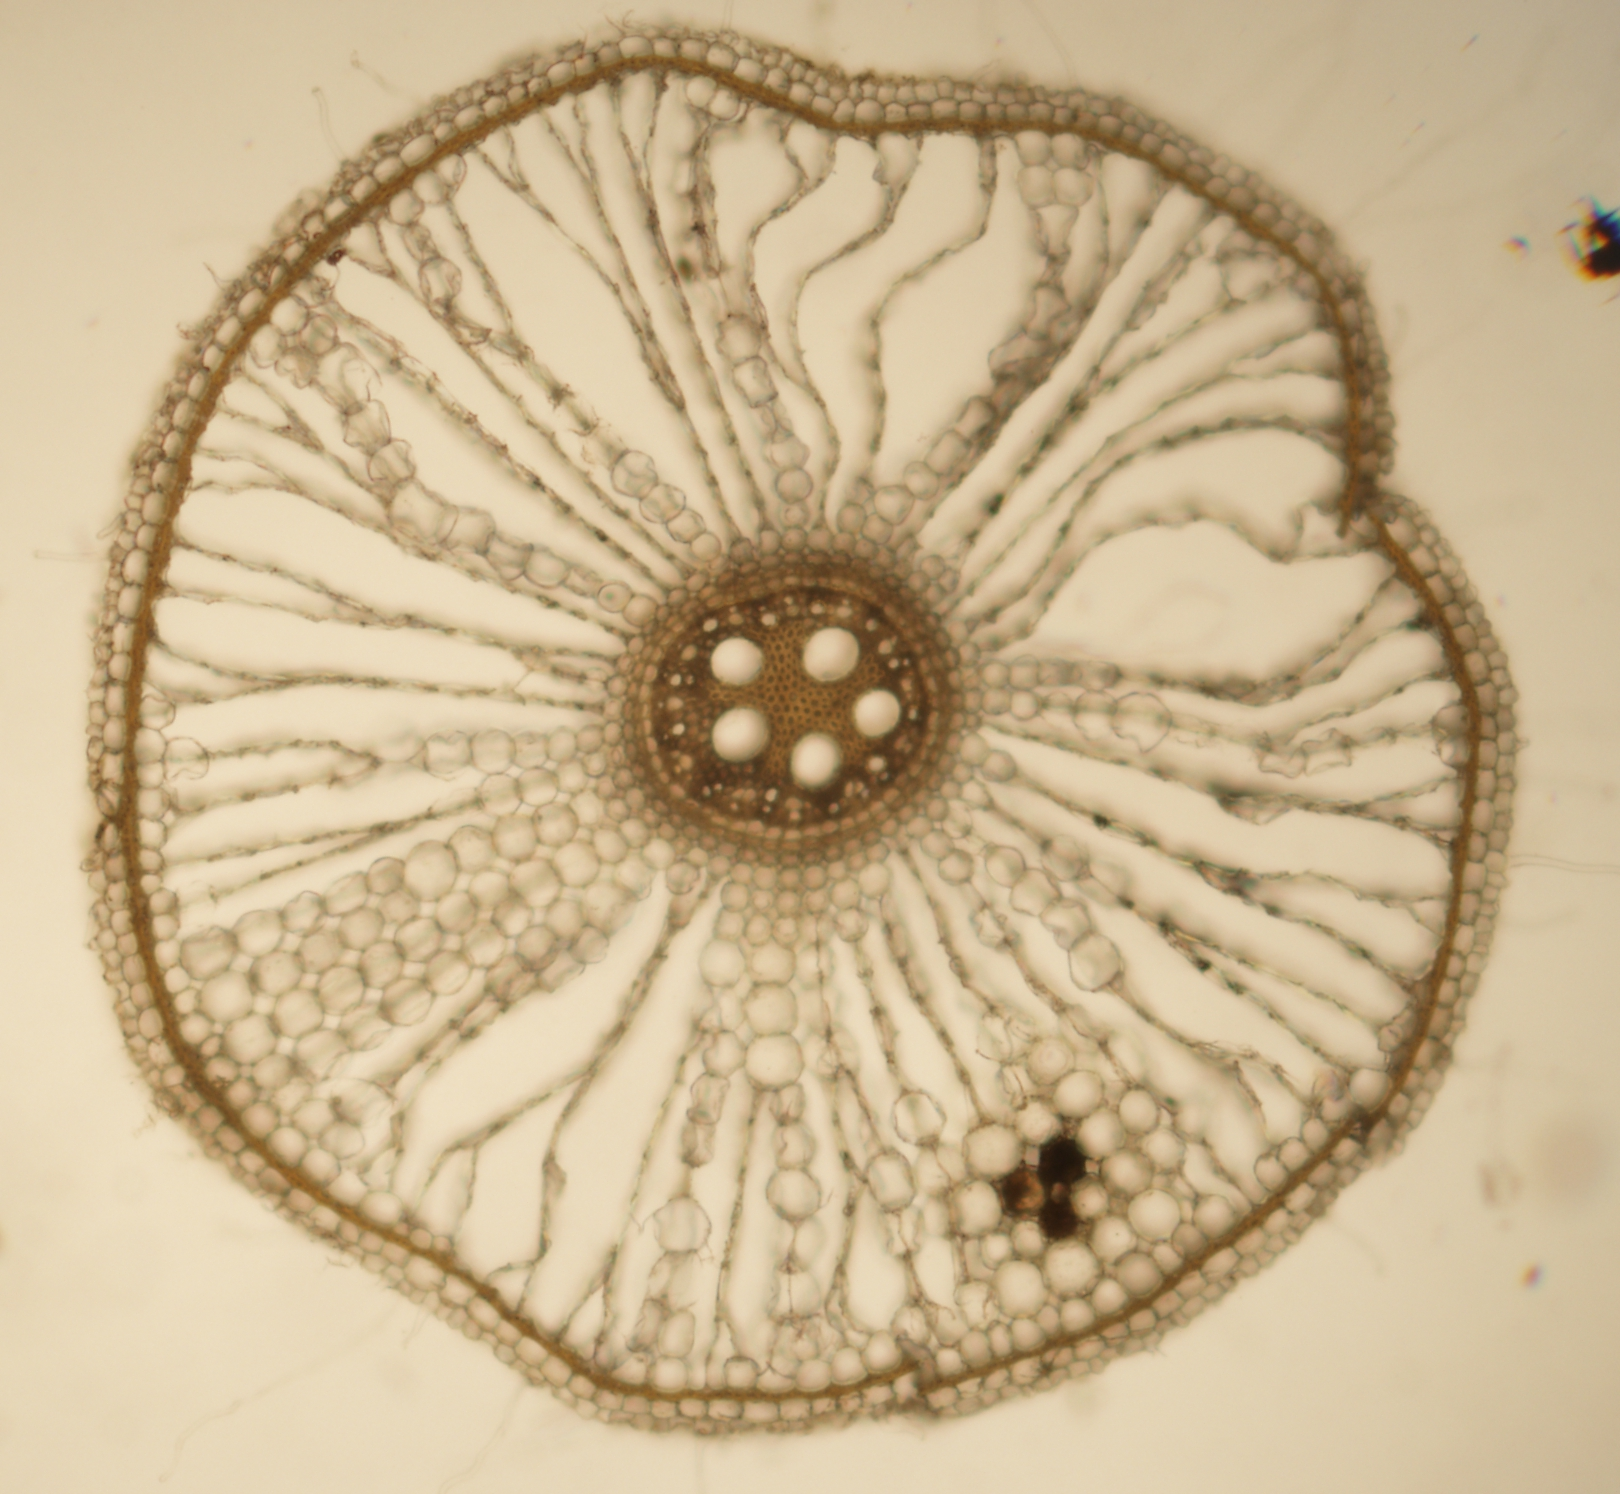lm: (711, 705, 770, 762), (803, 626, 859, 681), (790, 732, 842, 791), (710, 638, 765, 686), (852, 688, 900, 738)
